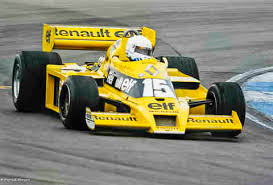f1_car: (8, 20, 251, 150)
